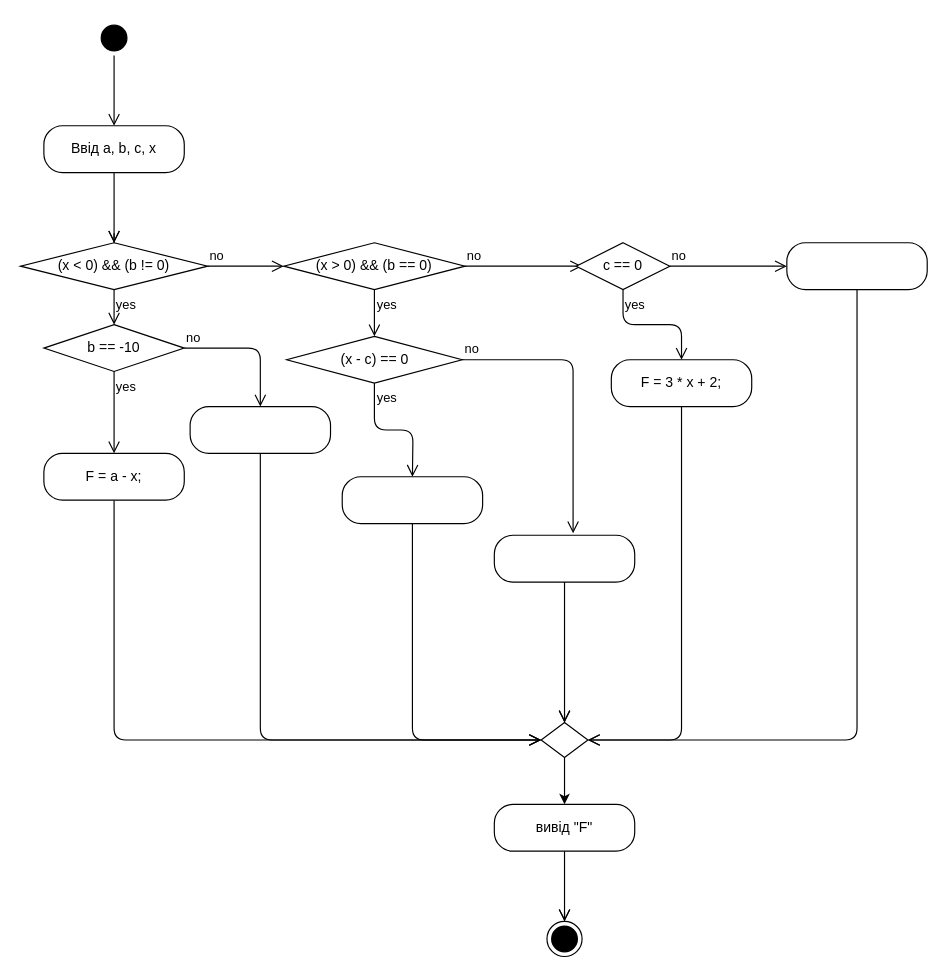
Some shapes in this 948 by 977 pixel diagram are drawn without their labels. Each missing label, with the centre of its shape:
F = (x - a) / (x - c);: the point at 564,558
F = 3 * x + 2. / c;: the point at 856,266
F = a - x / (10 + b);: the point at 260,429
F = x - a;: the point at 412,500
